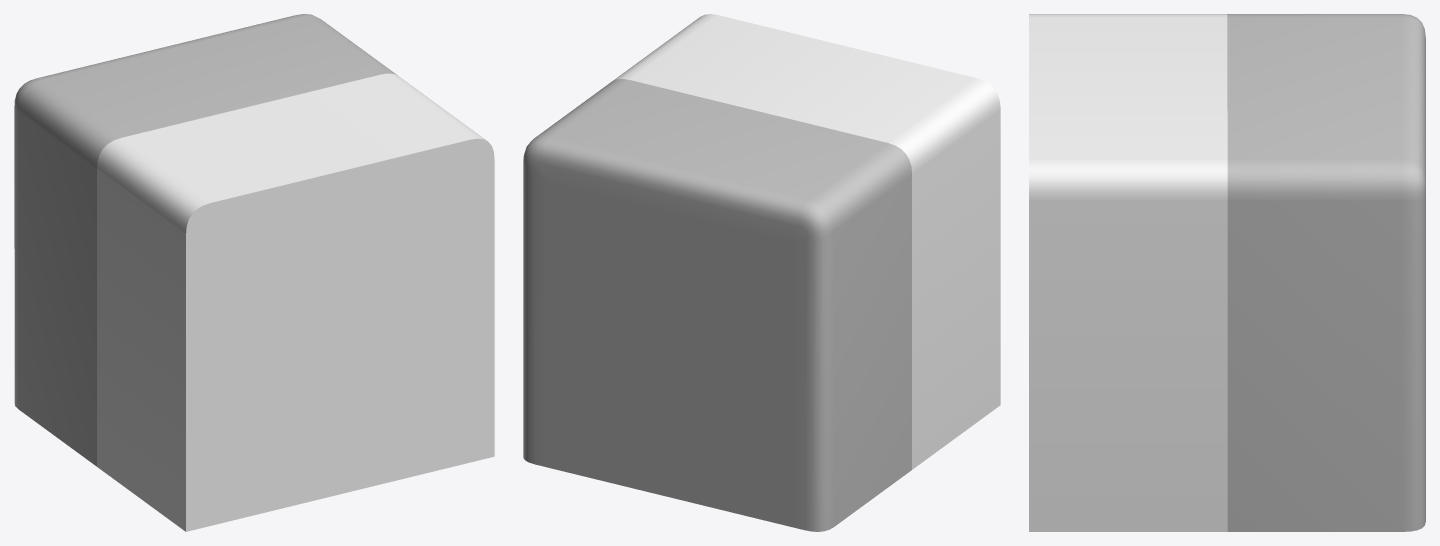
Rendered from End.FBX.
3 views of the same model, side by side, from view 1: azimuth 30°, elevation 25°; view 2: azimuth 150°, elevation 25°; view 3: azimuth 270°, elevation 25° (orthographic). The views are drawn at different scales.
Visible parts, largest first — view 1: End; view 2: End; view 3: End.
Boxes of the visible parts, x1=… form: End: x1=14, y1=14, x2=494, y2=531; End: x1=523, y1=14, x2=1000, y2=531; End: x1=1029, y1=14, x2=1425, y2=531.
Bounding box in the file's own units: 197 × 197 × 197.
1 material, 1 textured.
